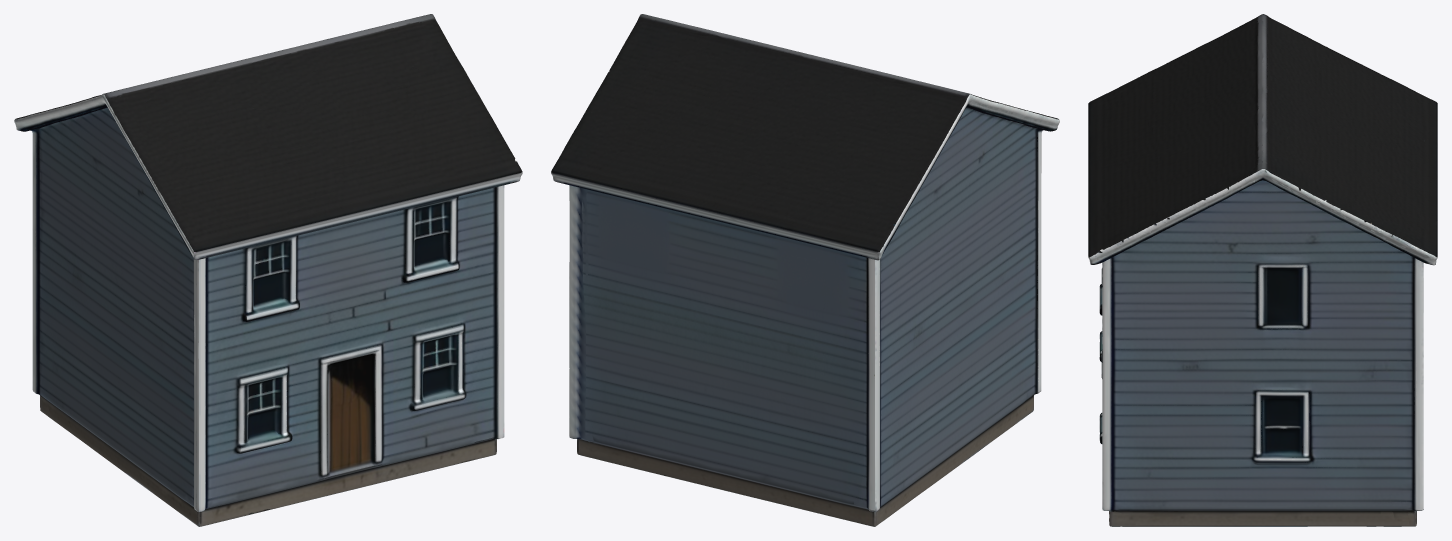
Rendered from house-blue-suburban-house.glb.
The picture shows the model from 3 angles, left to right: view 1: azimuth 30°, elevation 25°; view 2: azimuth 150°, elevation 25°; view 3: azimuth 270°, elevation 25°; orthographic projection. The views are drawn at different scales.
Parts seen in each view (by area): view 1: tmpmxer3nuc.ply; view 2: tmpmxer3nuc.ply; view 3: tmpmxer3nuc.ply.
Boxes of the visible parts, x1=… form: tmpmxer3nuc.ply: x1=14, y1=14, x2=522, y2=526; tmpmxer3nuc.ply: x1=551, y1=14, x2=1059, y2=526; tmpmxer3nuc.ply: x1=1088, y1=14, x2=1437, y2=526.
Bounding box in the file's own units: 1.79 × 1.96 × 1.7.
1 material, 1 textured.
